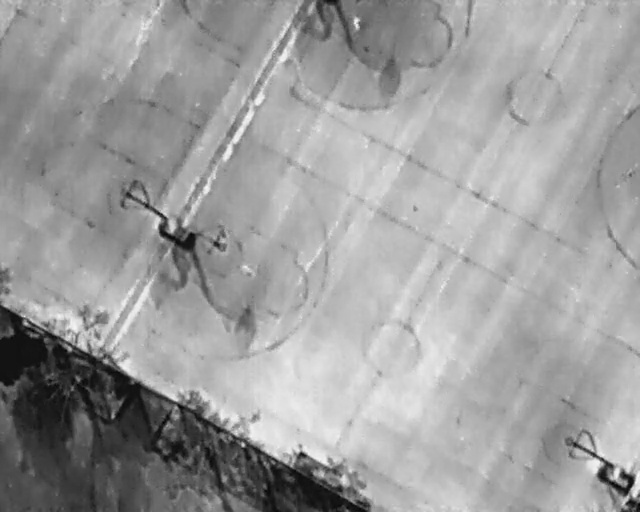Person: (351, 14, 360, 31)
